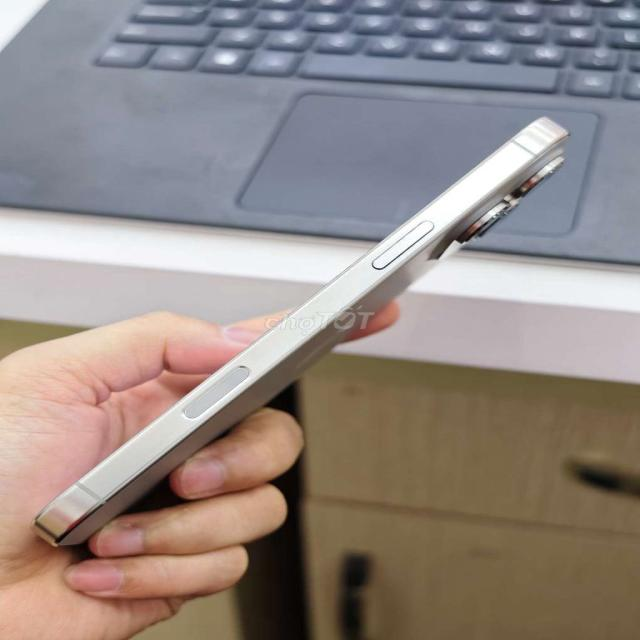gen_16: (33, 118, 568, 546)
